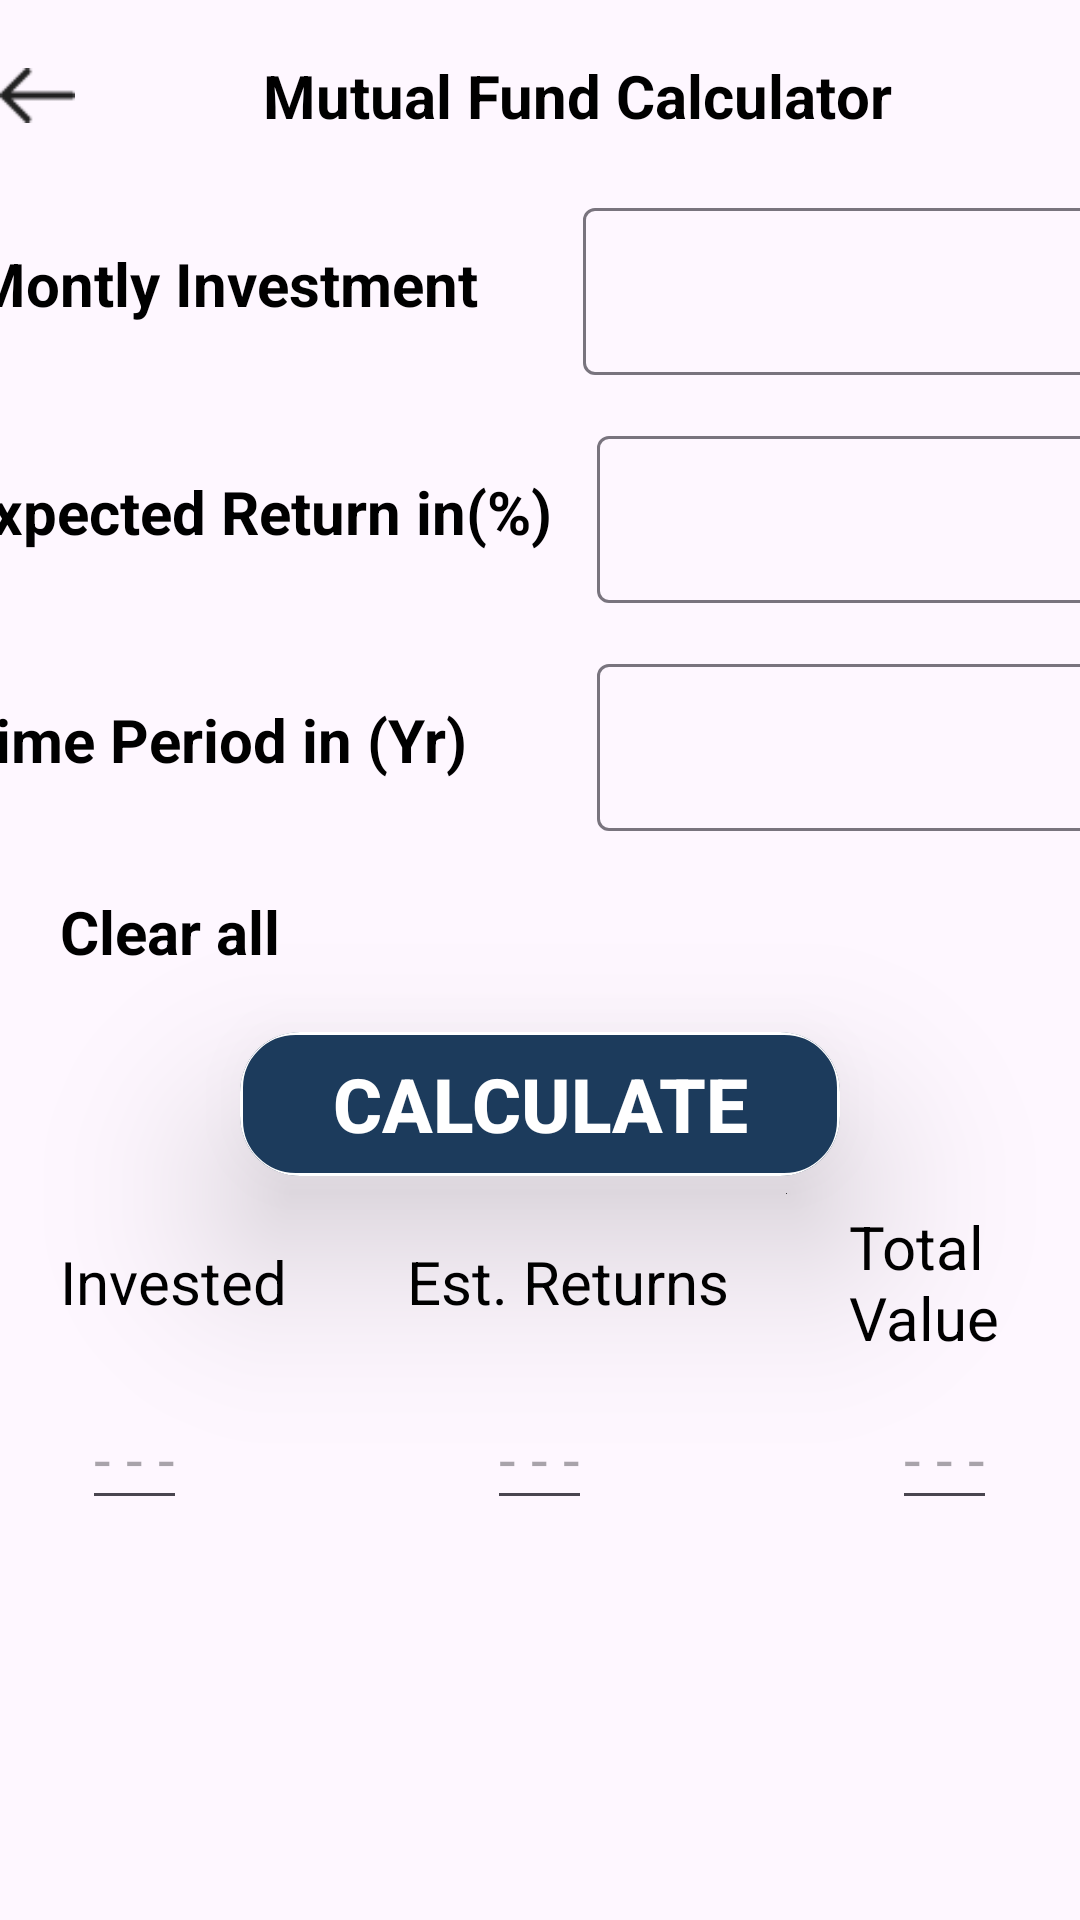

Icon bounding boxes for this 1080px×1920px phone screenshot, format [x1=x1, y1=y1, x2=x2, y2=y2]:
backarro: [x1=0, y1=68, x2=75, y2=123]
